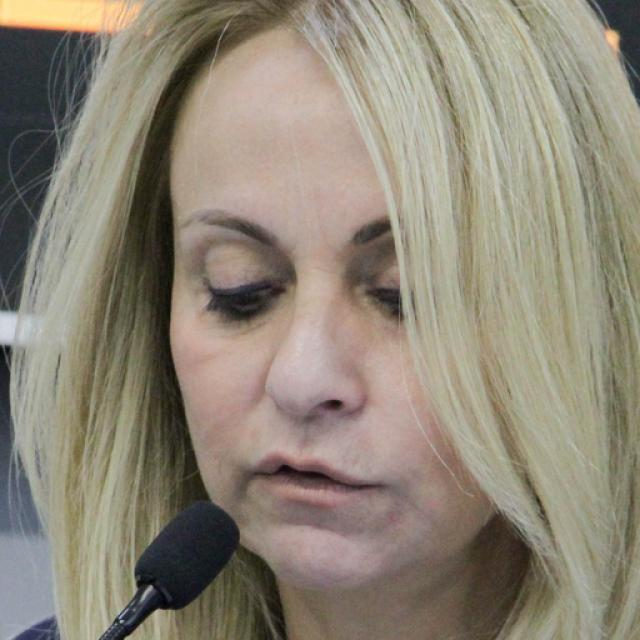sad: (166, 29, 515, 589)
